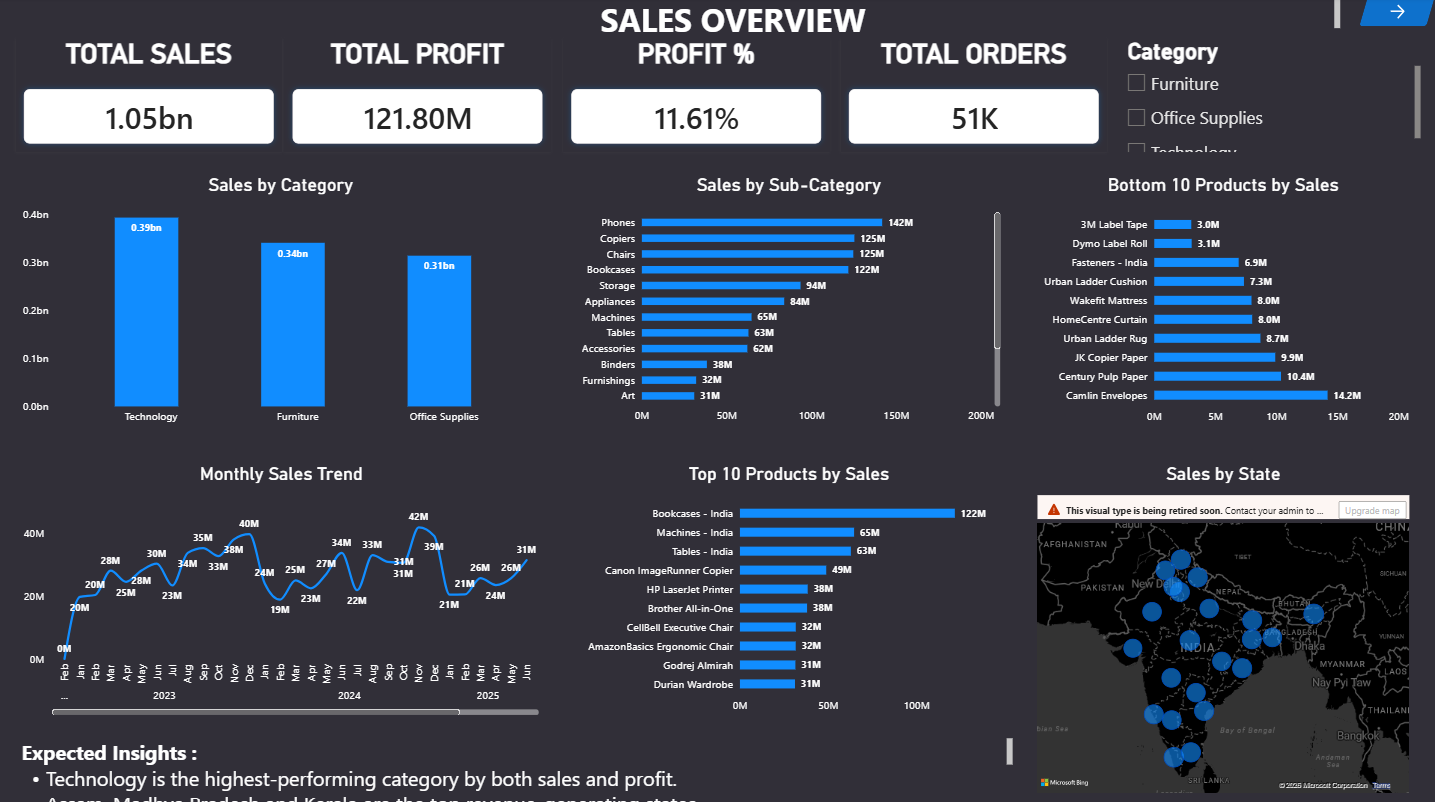

What the dashboard file says about the page in this screenshot:
{"tool":"powerbi","page":{"name":"Sales Overview","canvas":[1920,1080],"ordinal":0},"visuals":[{"type":"textbox","box":[177.3,0,1616,56.1],"z":0},{"type":"cardVisual","title":"TOTAL SALES","fields":{"Data":["Orders.Total Sales"]},"box":[22.6,55.6,356.1,152.3],"z":1000},{"type":"cardVisual","title":"TOTAL PROFIT","fields":{"Data":["Orders.Total Profit"]},"box":[382.8,55.6,356.1,152.3],"z":2000},{"type":"cardVisual","title":"PROFIT %","fields":{"Data":["Orders.Profit %"]},"box":[755.4,55.6,356.1,152.3],"z":3000},{"type":"cardVisual","title":"TOTAL ORDERS","fields":{"Data":["Orders.Total Orders"]},"box":[1125.9,55.6,356.1,152.3],"z":4000},{"type":"clusteredColumnChart","title":"Sales by Category","fields":{"Category":["Orders.Category"],"Y":["Orders.Total Sales"]},"box":[16.5,222.3,722.5,368.4],"z":5000},{"type":"clusteredBarChart","title":"Sales by Sub-Category","fields":{"Category":["Orders.Sub-Category"],"Y":["Orders.Total Sales"]},"box":[758.2,222.6,597.2,367.4],"z":6000},{"type":"map","title":"Sales by State","fields":{"Category":["Orders.State"],"Size":["Orders.Total Sales"]},"box":[1371.7,608,528.4,472.3],"z":7000},{"type":"lineChart","title":"Monthly Sales Trend","fields":{"Category":["Date.Year","Date.Month"],"Y":["Orders.Total Sales"]},"box":[18.1,608,720.2,367.4],"z":8000},{"type":"clusteredBarChart","title":"Top 10 Products by Sales","fields":{"Category":["Orders.Product Name"],"Y":["Sum(Orders.Sales)"]},"box":[758.2,608,597.2,369.2],"z":9000},{"type":"slicer","fields":{"Values":["Orders.Category"]},"box":[1500.5,55.6,399.3,152.3],"z":10000},{"type":"textbox","box":[23.5,989.9,1331.9,90.5],"z":11000},{"type":"clusteredBarChart","title":"Bottom 10 Products by Sales","fields":{"Category":["Orders.Product Name"],"Y":["Sum(Orders.Sales)"]},"box":[1371.7,222.6,528.4,369.2],"z":12000},{"type":"actionButton","box":[1818.7,0,100.9,39.1],"z":13000}]}

Visuals, with their boxes in screenshot pixels (x1, y1, x2, y2), scaled from the page's 1920x1080 canvas onto the 1435x802 screenshot:
textbox: pyautogui.locateOnScreen(133, 0, 1340, 42)
"TOTAL SALES" cardVisual: pyautogui.locateOnScreen(17, 41, 283, 154)
"TOTAL PROFIT" cardVisual: pyautogui.locateOnScreen(286, 41, 552, 154)
"PROFIT %" cardVisual: pyautogui.locateOnScreen(565, 41, 831, 154)
"TOTAL ORDERS" cardVisual: pyautogui.locateOnScreen(841, 41, 1108, 154)
"Sales by Category" clusteredColumnChart: pyautogui.locateOnScreen(12, 165, 552, 439)
"Sales by Sub-Category" clusteredBarChart: pyautogui.locateOnScreen(567, 165, 1013, 438)
"Sales by State" map: pyautogui.locateOnScreen(1025, 451, 1420, 801)
"Monthly Sales Trend" lineChart: pyautogui.locateOnScreen(14, 451, 552, 724)
"Top 10 Products by Sales" clusteredBarChart: pyautogui.locateOnScreen(567, 451, 1013, 726)
slicer - Orders.Category: pyautogui.locateOnScreen(1121, 41, 1420, 154)
textbox: pyautogui.locateOnScreen(18, 735, 1013, 801)
"Bottom 10 Products by Sales" clusteredBarChart: pyautogui.locateOnScreen(1025, 165, 1420, 439)
actionButton: pyautogui.locateOnScreen(1359, 0, 1434, 29)
